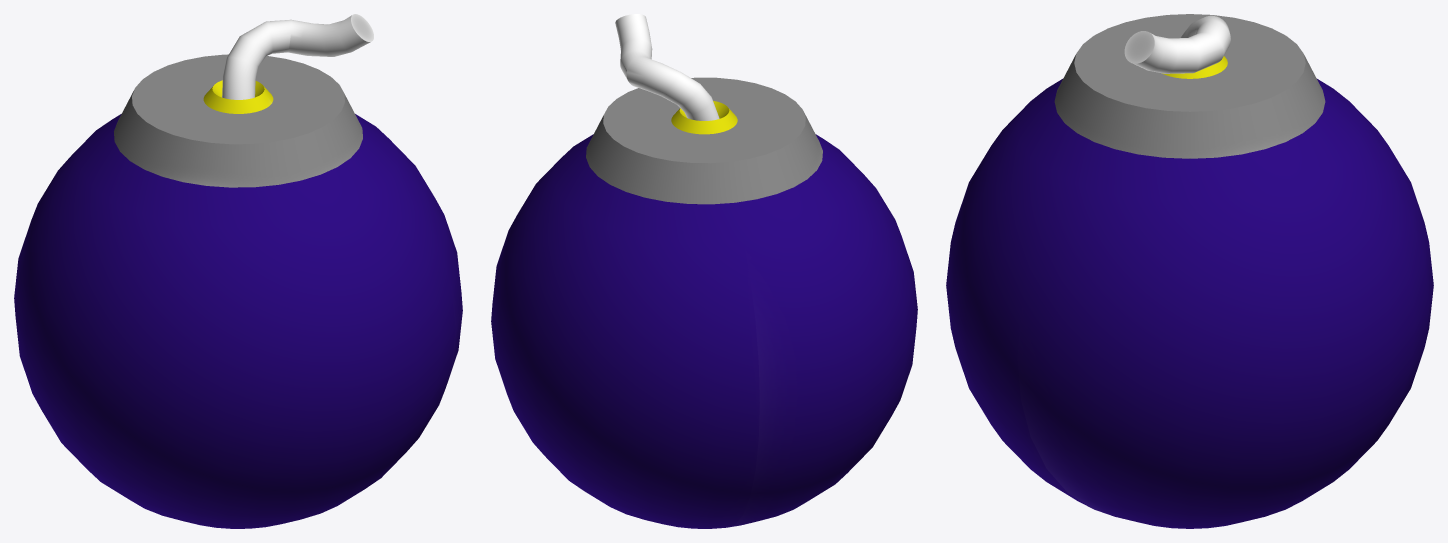
File: bom.fbx
The picture shows the model from 3 angles, left to right: view 1: azimuth 30°, elevation 25°; view 2: azimuth 150°, elevation 25°; view 3: azimuth 270°, elevation 25°; orthographic projection. The views are drawn at different scales.
Parts seen in each view (by area): view 1: Sphere; view 2: Sphere; view 3: Sphere.
Part boxes in pixels (<box>): Sphere: <box>14,14,462,528</box>; Sphere: <box>491,14,917,528</box>; Sphere: <box>946,14,1433,528</box>.
Size of the model in its own units: 200 by 237 by 200.
